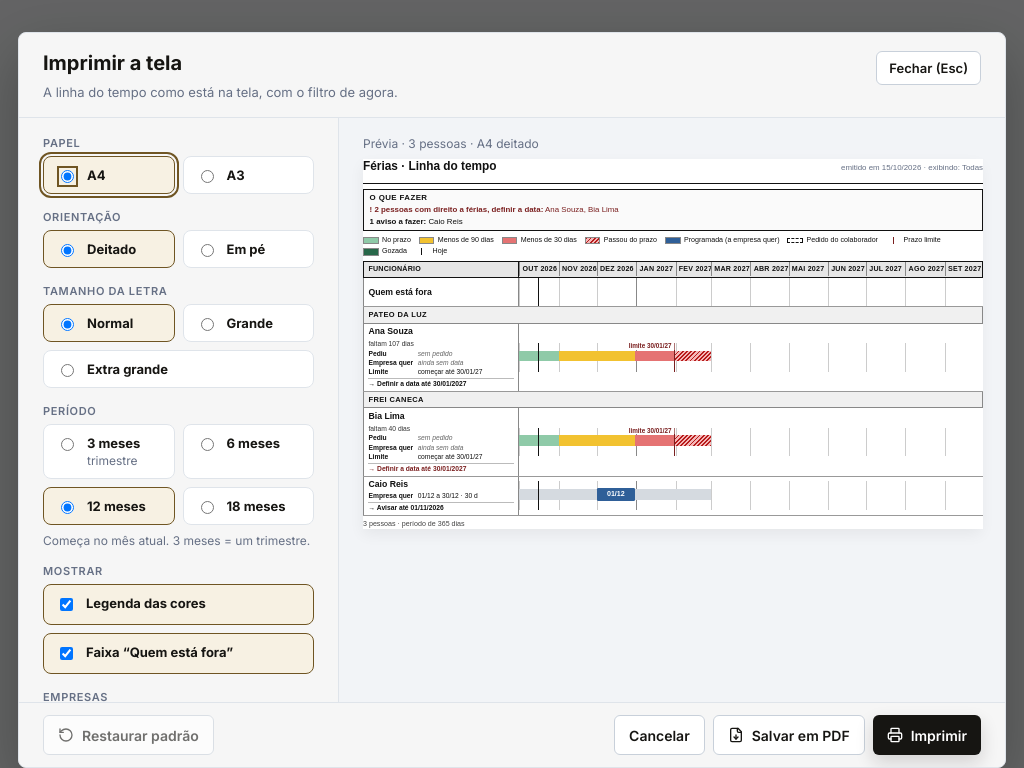
Scenario: ImpressaoTela › restaurar padrão só liga depois de mudar algo e desfaz as escolhas
The width and height of the screenshot is (1024, 768).
Click the radio button labelled "18 meses". click: point(207, 507)
box: [200,500,214,514]
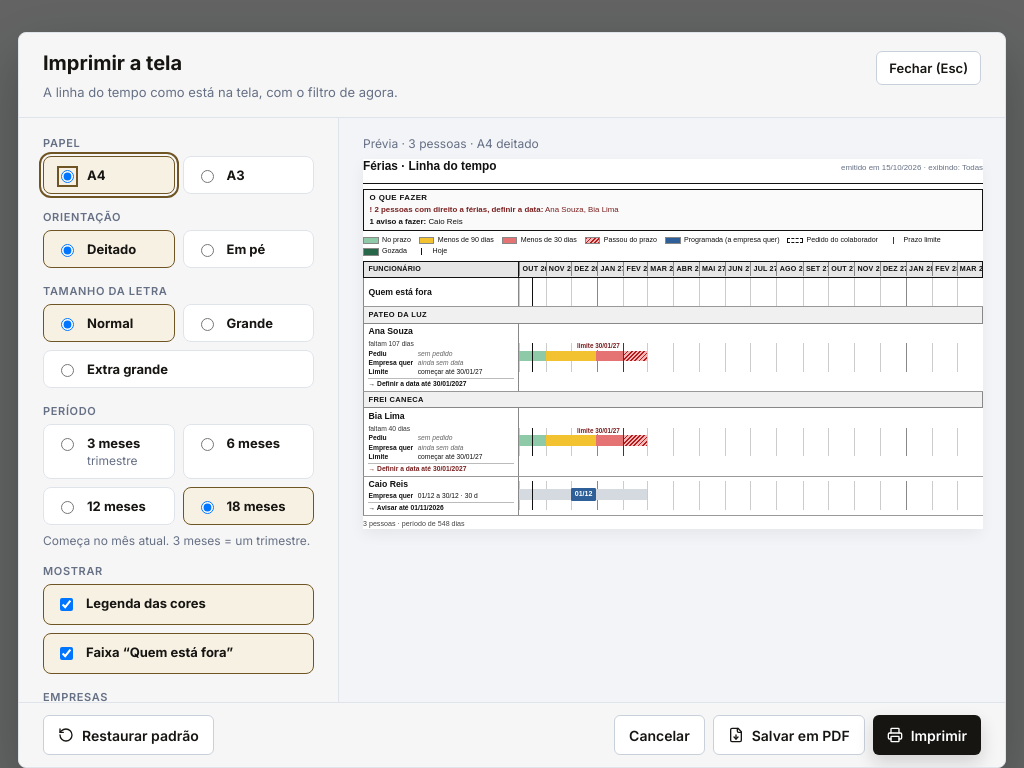
Click the checkbox labelled "Legenda das cores". click: point(66, 604)
box: [60,598,73,610]
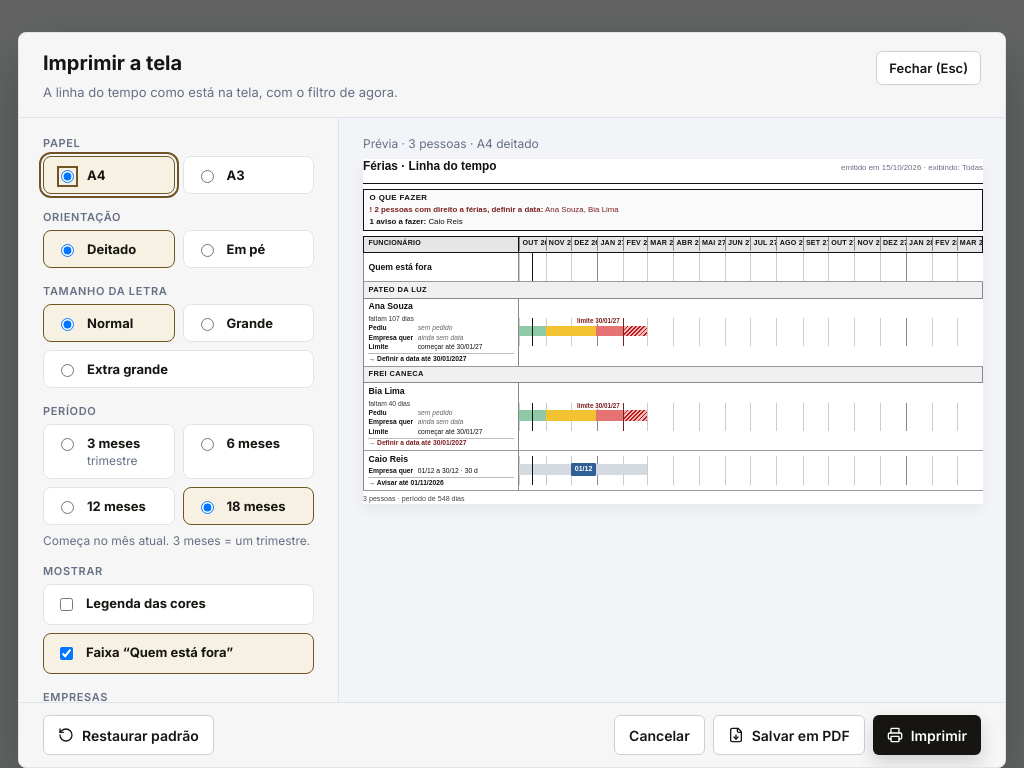
Now the button "Restaurar padrão" is enabled
Click the button "Restaurar padrão". click: point(128, 735)
box: [43,715,214,755]
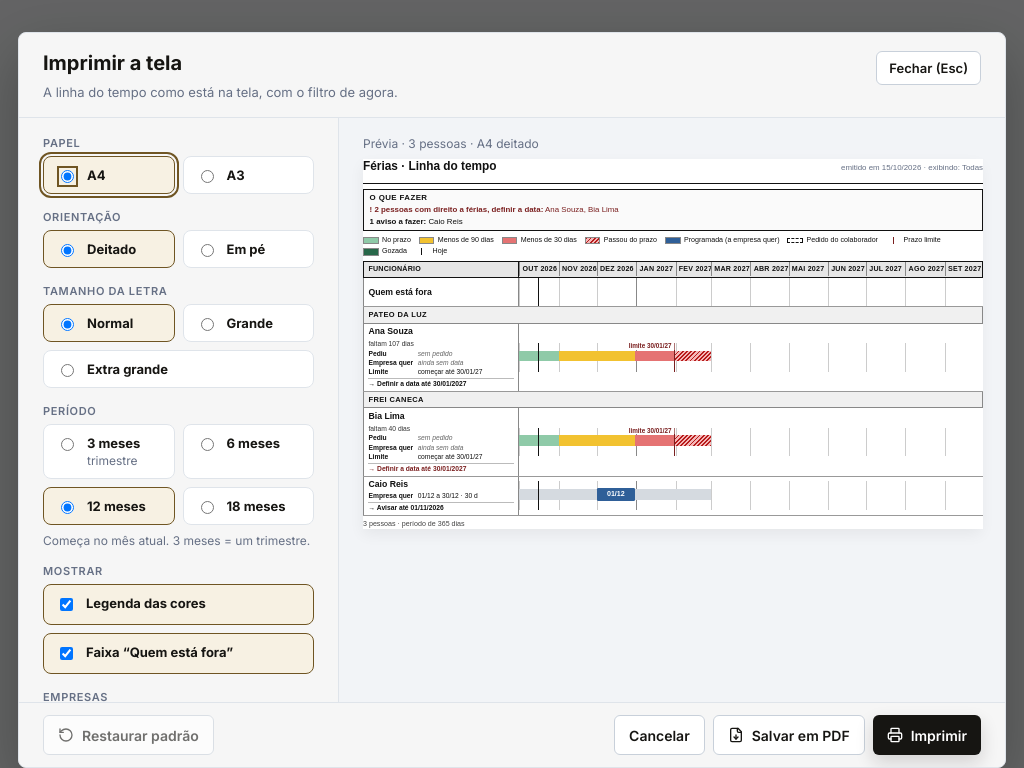
Now the checkbox labelled "Legenda das cores" is checked, box [60,598,73,610]
Now the radio button labelled "12 meses" is checked, box [61,500,74,514]
